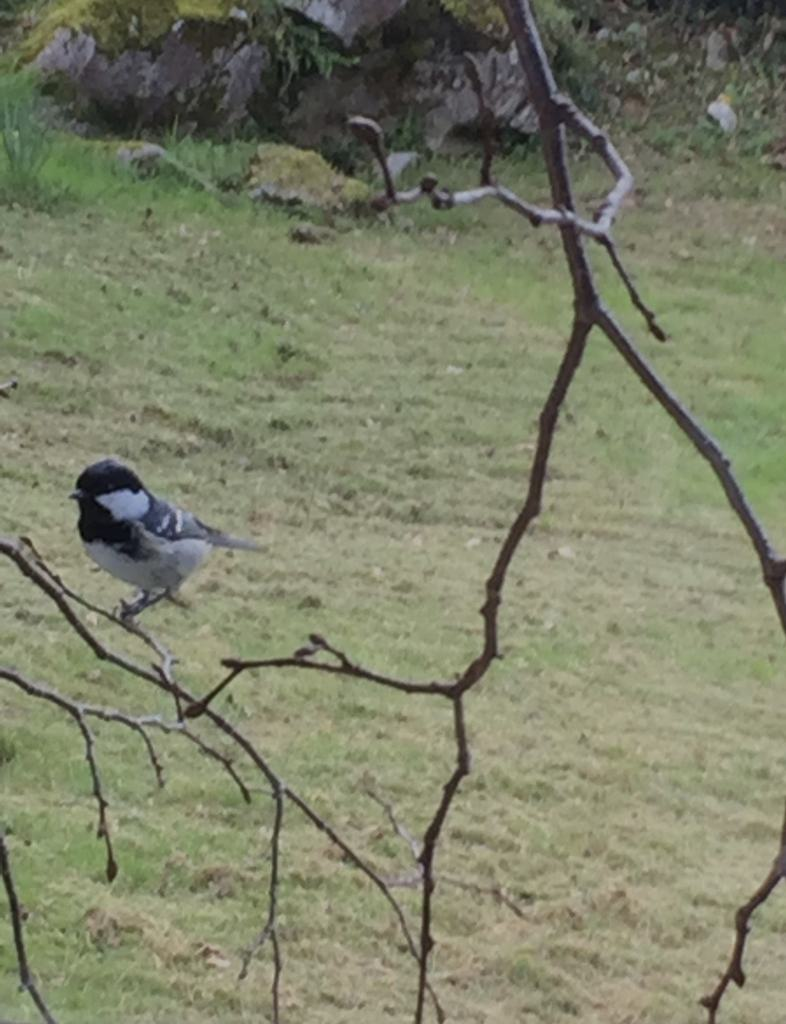PeriparusAter: (68, 460, 270, 618)
